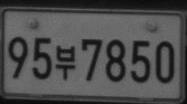0: (154, 40, 175, 85)
5: (130, 40, 151, 83), (32, 37, 52, 79)
7: (80, 37, 103, 81)
8: (104, 38, 126, 83)
9: (7, 36, 28, 79)
부: (55, 44, 76, 81)
